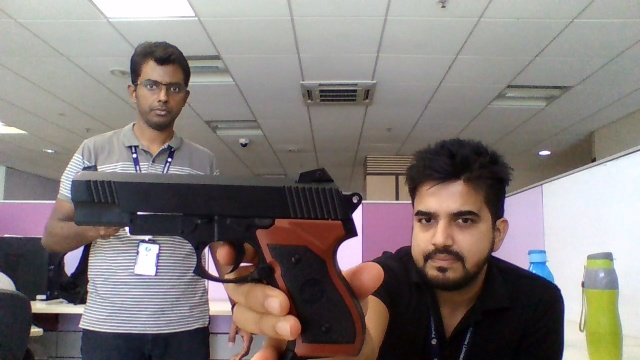gun: (72, 165, 357, 271)
